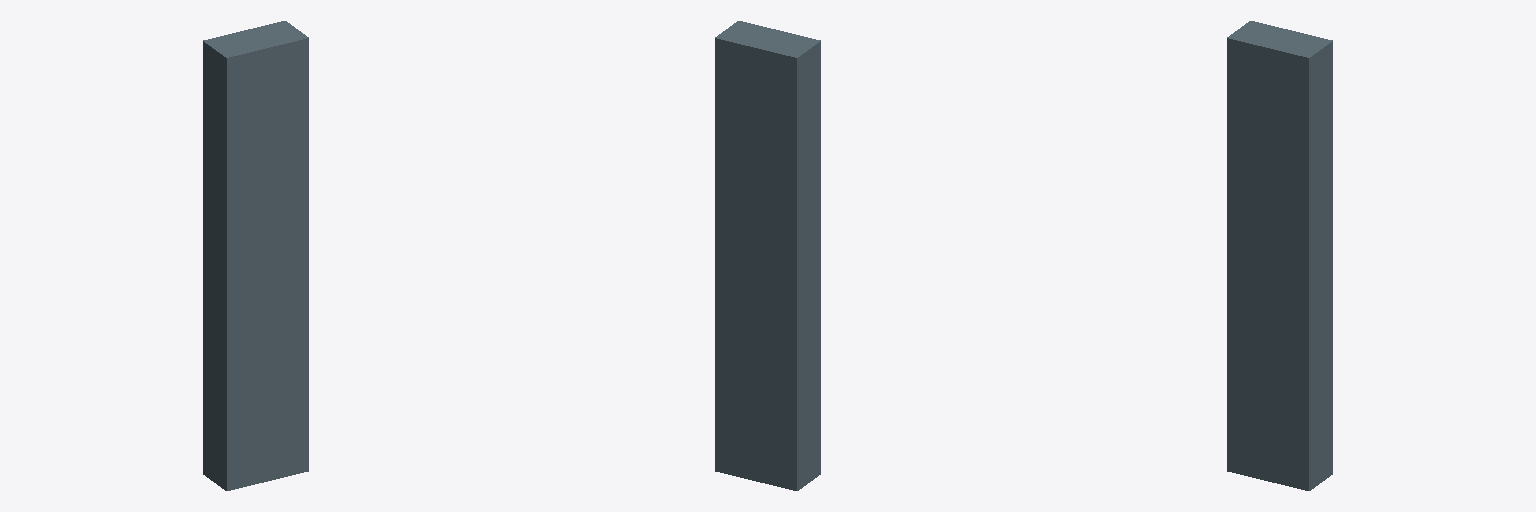
URDF robot description (box):
<?xml version="1.0"?>
<robot name="box">
<link name="world"/>
  <joint name="fixed" type="fixed">
    <parent link="world"/>
    <child link="box"/>
  </joint>
  <link name="box">
    <inertial>
     <origin
        xyz="0 0 0"
        rpy="0 0 0" />
      <mass value="1"/>
      <!-- Inertia values were calculated to be consistent with the mass and
           geometry size, assuming a uniform density. -->
      <inertia ixx="0.0108" ixy="0" ixz="0" iyy="0.0083" iyz="0" izz="0.0042"/>
    </inertial>
    <visual>
        <origin
        xyz="0 0 0"
        rpy="0 0 0" />
      <geometry>
        <box size=".2 .1 1"/>
      </geometry>
      <material name="red">
           <color rgba="0.4196078431372549 0.48627450980392156 0.5215686274509804 1.0"/>
      </material>
    </visual>
    <collision name="box">
      <geometry>
        <box size=".2 .1 1"/>
      </geometry>
    </collision>
  </link>
</robot>

--- Render facts (derived) ---
3 views of the same robot in one strip: view 1: azimuth 30°, elevation 25°; view 2: azimuth 150°, elevation 25°; view 3: azimuth 330°, elevation 25° (orthographic).
Robot: box — 2 links, 1 joints (1 fixed); root link world; default pose: all joints at 0.
Visible links, largest first — view 1: box; view 2: box; view 3: box.
Boxes of the visible links, x1,y1,x2,y2 form: box: [203, 21, 308, 490]; box: [715, 21, 820, 490]; box: [1227, 21, 1332, 490].
Size in the robot's own frame: 0.2 by 0.1 by 1 metres.
Geometry: primitives only (box / cylinder / sphere), no mesh files.